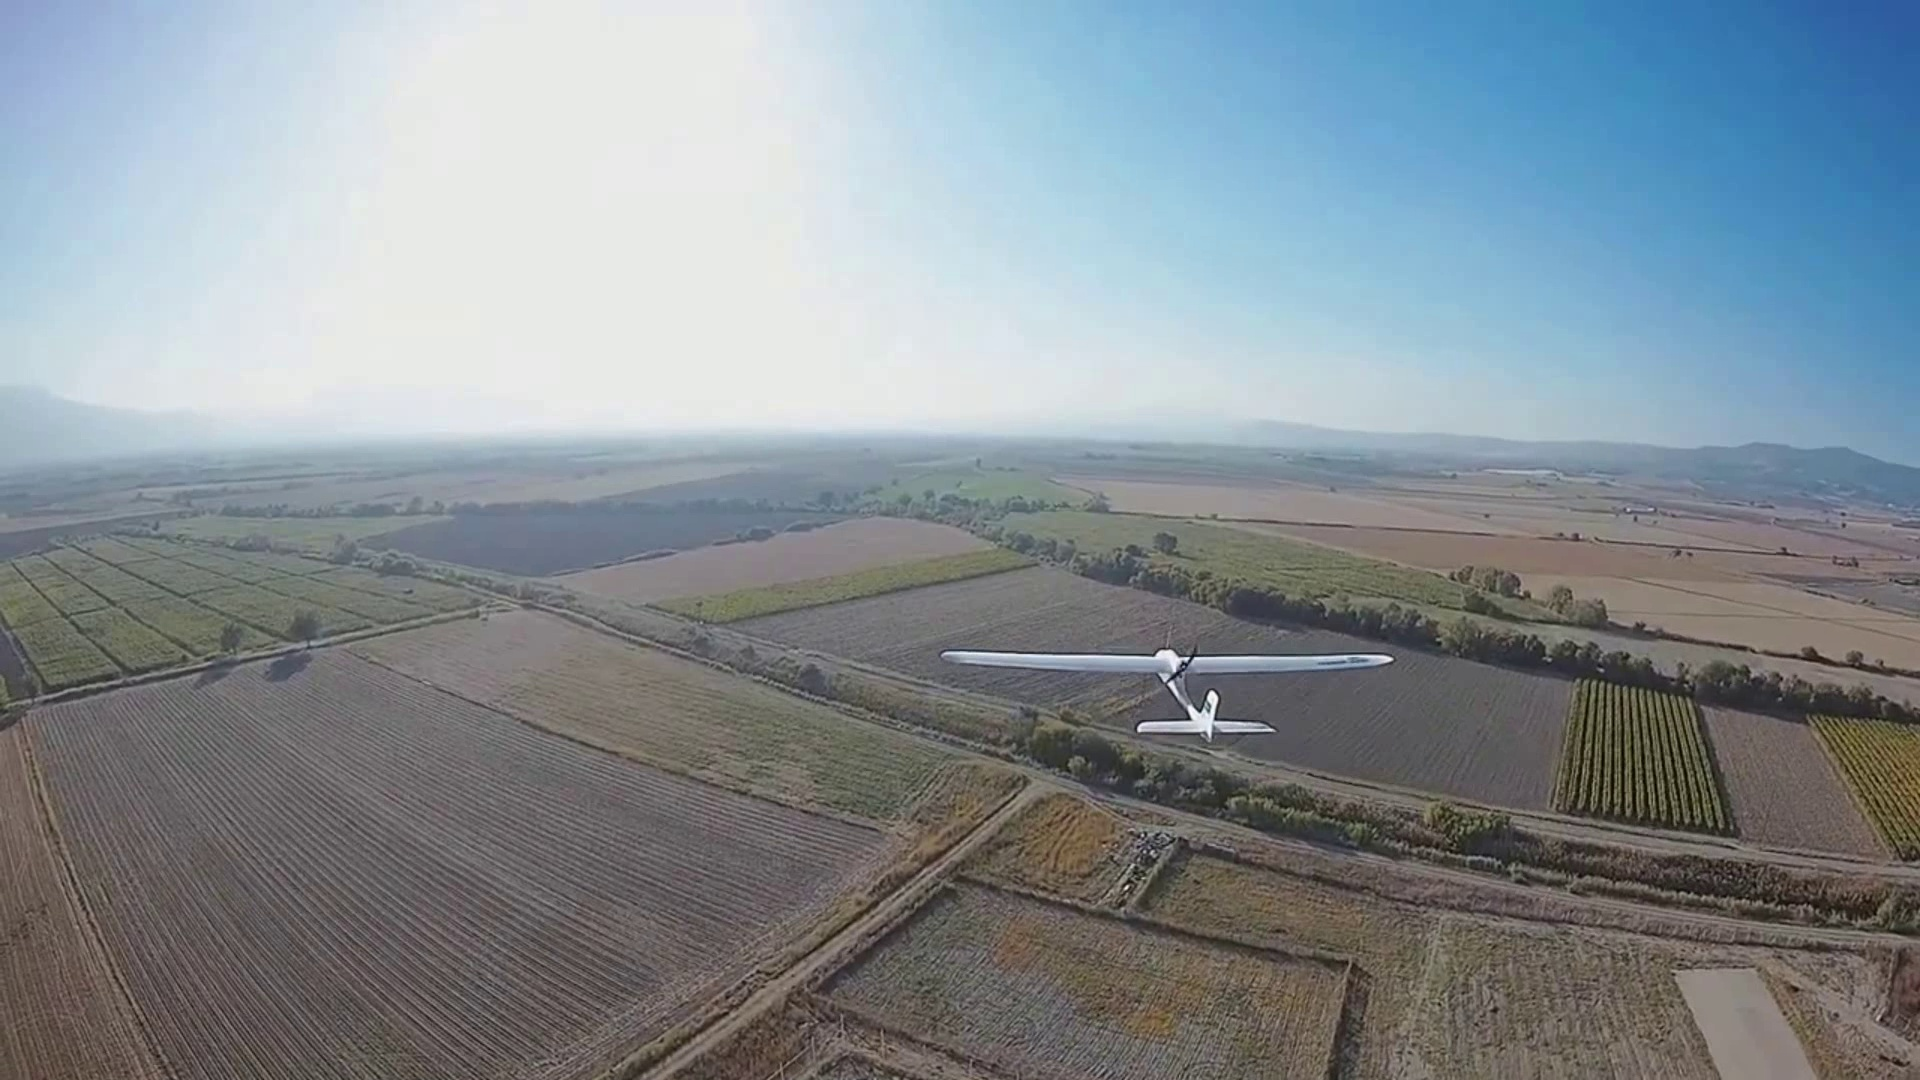airplane: (936, 636, 1396, 742)
